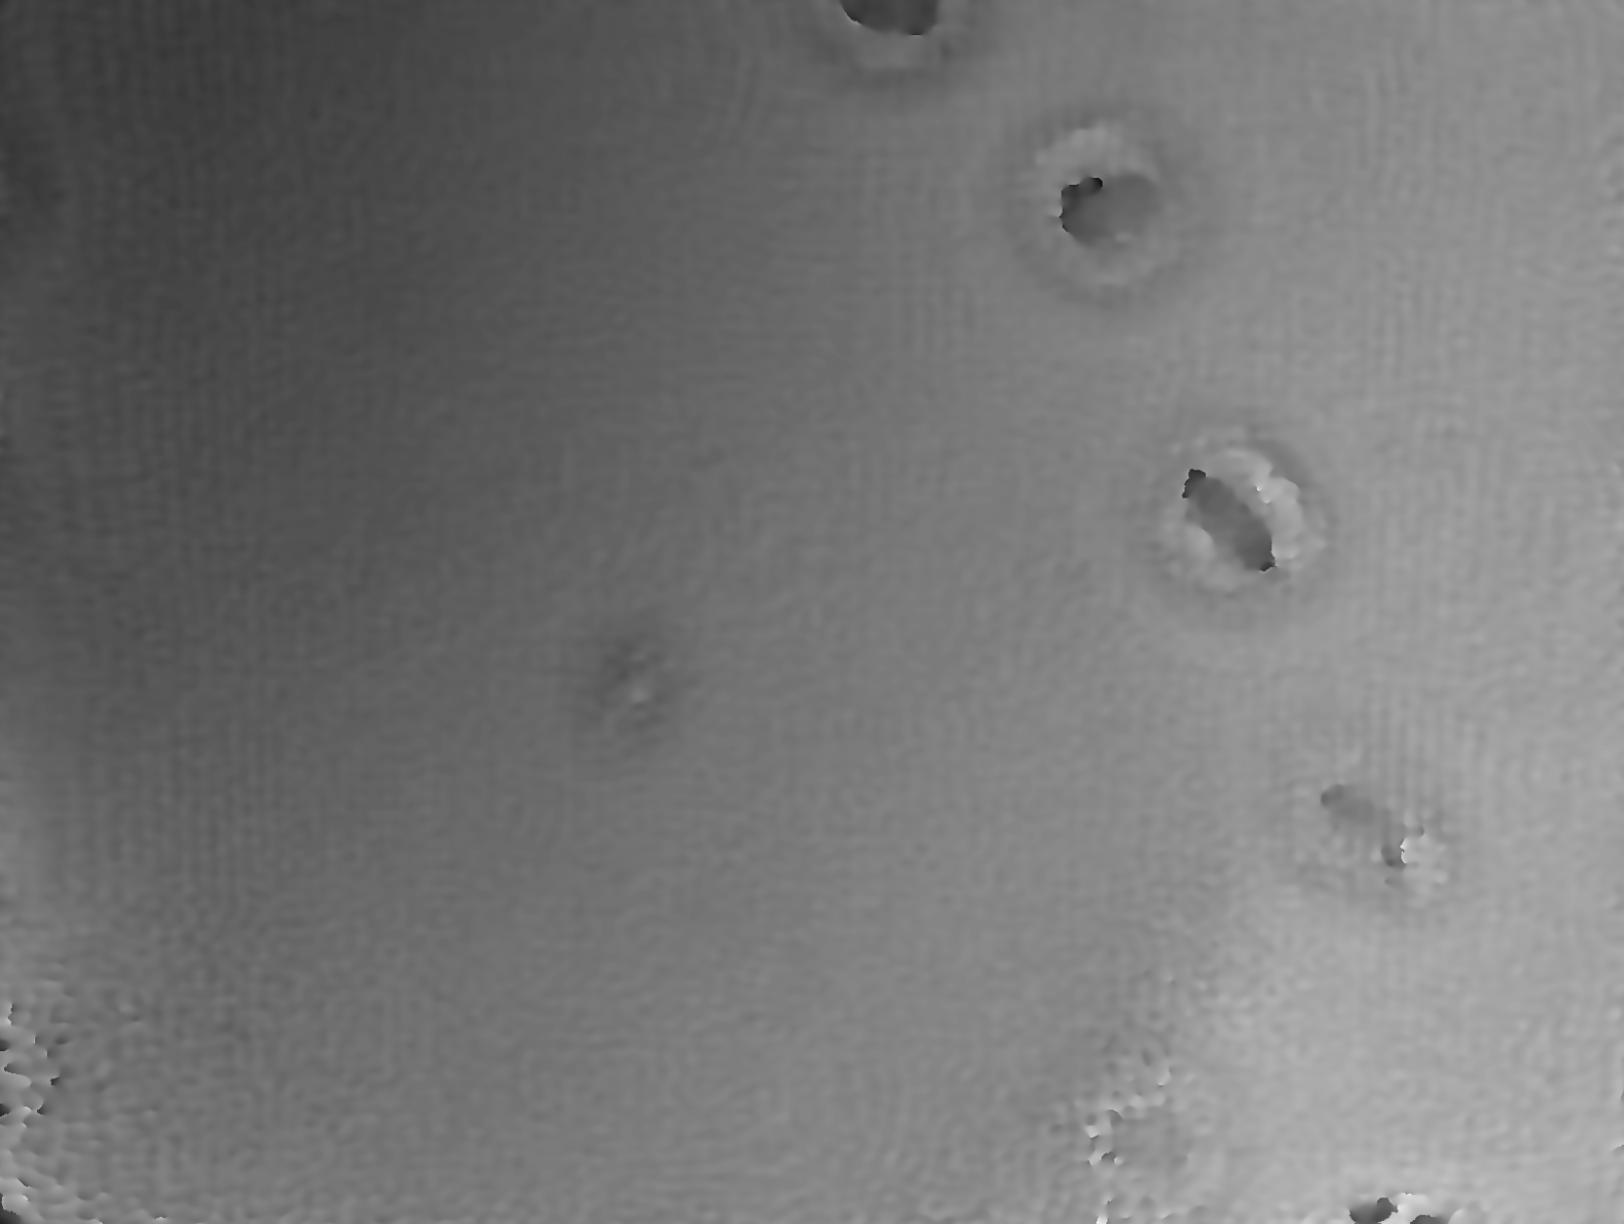cell: (1240, 702, 1501, 960), (972, 75, 1231, 321), (1119, 393, 1360, 642)
